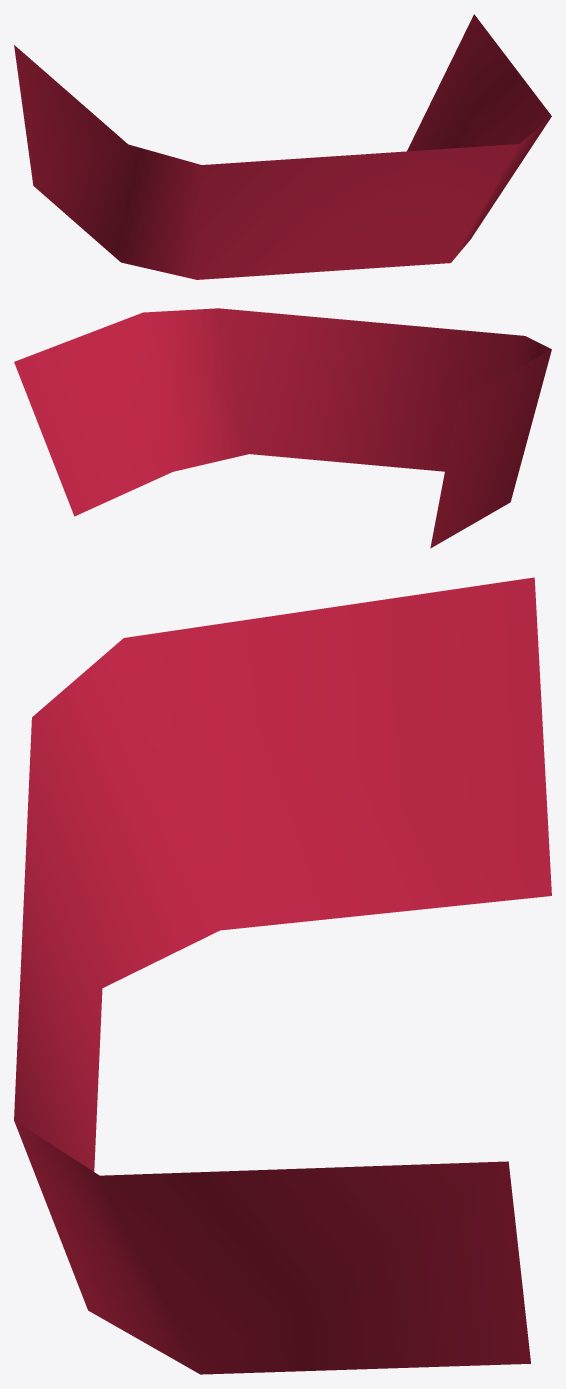
The picture shows the model from 3 angles, top to bottom: view 1: azimuth 30°, elevation 25°; view 2: azimuth 150°, elevation 25°; view 3: azimuth 270°, elevation 25°; orthographic projection. The views are drawn at different scales.
Parts seen in each view (by area): view 1: ef_409; view 2: ef_409; view 3: ef_409.
Boxes of the visible parts, x1,y1,x2,y2 form: ef_409: [14, 14, 551, 279]; ef_409: [14, 308, 551, 548]; ef_409: [14, 577, 551, 1374].
Size of the model in its own units: 0.686 by 0.3227 by 0.3578.
1 material, 1 textured.
